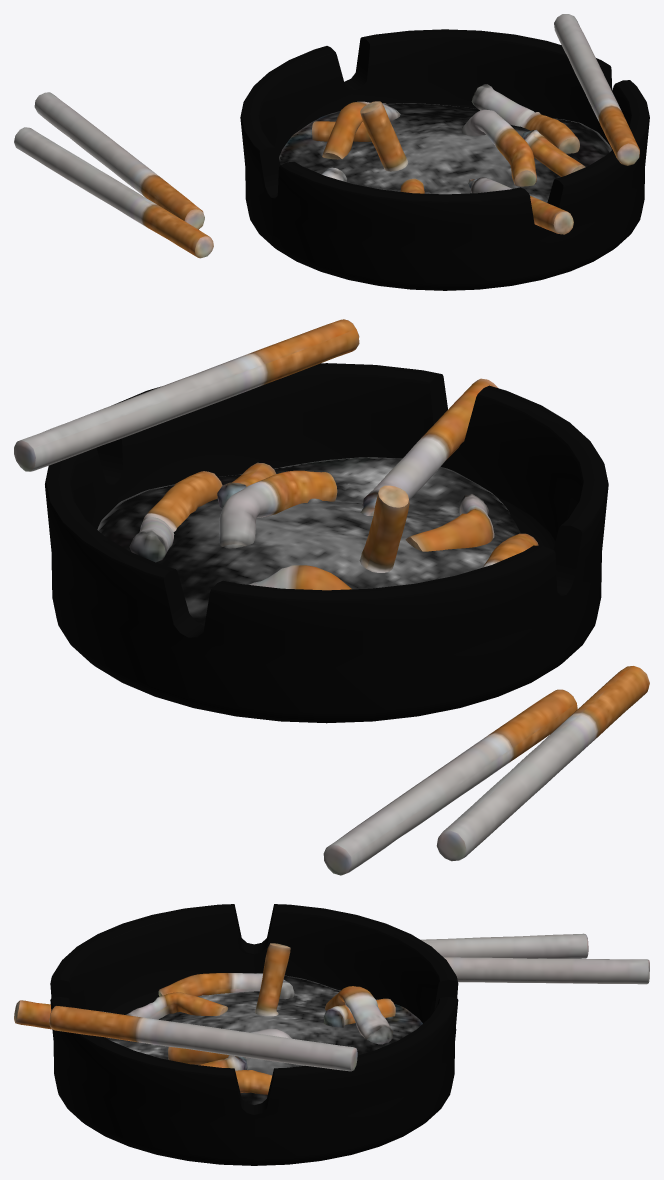
File: cinzeiro_cigarros.glb
3 views of the same model, one above another, from view 1: azimuth 30°, elevation 25°; view 2: azimuth 150°, elevation 25°; view 3: azimuth 270°, elevation 25° (orthographic). The views are drawn at different scales.
Parts seen in each view (by area): view 1: Ashtray; view 2: Ashtray; view 3: Ashtray.
Part boxes in pixels (box(x1,y1,x2,y2)): Ashtray: box(14, 14, 649, 290); Ashtray: box(14, 319, 649, 875); Ashtray: box(14, 904, 649, 1165).
Size of the model in its own units: 0.1363 by 0.0348 by 0.1675.
Materials: 1 (1 with a texture image).
